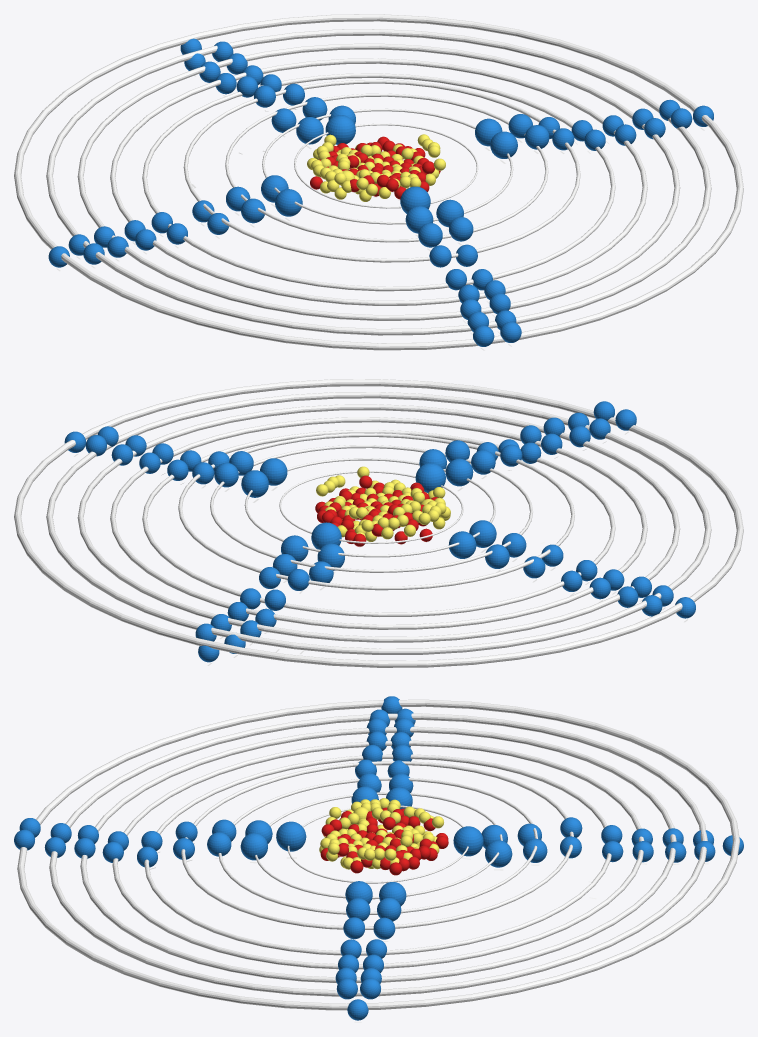
The picture shows the model from 3 angles, top to bottom: view 1: azimuth 30°, elevation 25°; view 2: azimuth 150°, elevation 25°; view 3: azimuth 270°, elevation 25°; orthographic projection.
Parts seen in each view (by area): view 1: Torus.009, Torus.008, Torus.007, Torus.006, Torus.005, Torus.004, Torus.003, Torus.002, Torus.001, g, g.005, g.003 (+2 smaller); view 2: Torus.009, Torus.008, Torus.007, Torus.006, Torus.005, Torus.004, Torus.003, Torus.002, Torus.001, g.001, g, g.006 (+8 smaller); view 3: Torus.009, Torus.008, Torus.007, Torus.006, Torus.005, Torus.004, Torus.003, Torus.002, g.001, g, Torus.001, g.007 (+1 smaller).
Part boxes in pixels (x1,y1,x2,y2): Torus.009: (14, 14, 743, 350); Torus.008: (46, 29, 711, 335); Torus.007: (77, 43, 680, 320); Torus.006: (110, 58, 647, 305); Torus.005: (142, 73, 615, 291); Torus.004: (183, 79, 580, 262); Torus.003: (225, 93, 548, 242); Torus.002: (262, 108, 513, 224); Torus.001: (294, 123, 478, 208); g: (325, 115, 355, 144); g.005: (490, 131, 517, 158); g.003: (275, 189, 302, 216); Torus.009: (14, 379, 743, 667); Torus.008: (46, 392, 711, 654); Torus.007: (77, 404, 680, 642); Torus.006: (110, 417, 647, 629); Torus.005: (142, 430, 615, 616); Torus.004: (178, 433, 574, 590); Torus.003: (210, 445, 532, 572); Torus.002: (244, 458, 495, 557); Torus.001: (279, 471, 463, 543); g.001: (415, 463, 445, 492); g: (311, 522, 341, 549); g.006: (445, 458, 473, 486); Torus.009: (17, 699, 739, 1010); Torus.008: (49, 713, 707, 996); Torus.007: (80, 726, 676, 983); Torus.006: (112, 740, 644, 969); Torus.005: (144, 754, 611, 955); Torus.004: (181, 761, 573, 929); Torus.003: (218, 777, 537, 914); Torus.002: (255, 792, 502, 899); g.001: (276, 821, 306, 851); g: (453, 826, 483, 856); Torus.001: (287, 805, 468, 883); g.007: (240, 833, 267, 860).
Size of the model in its own units: 24.29 by 2.85 by 24.01.
